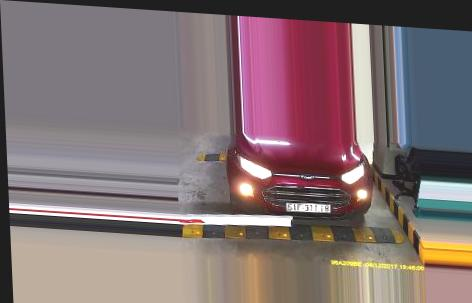License_Plate: (283, 199, 332, 217)
